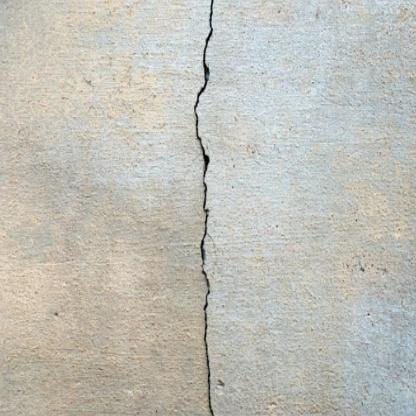Cracks: (191, 0, 220, 416)
